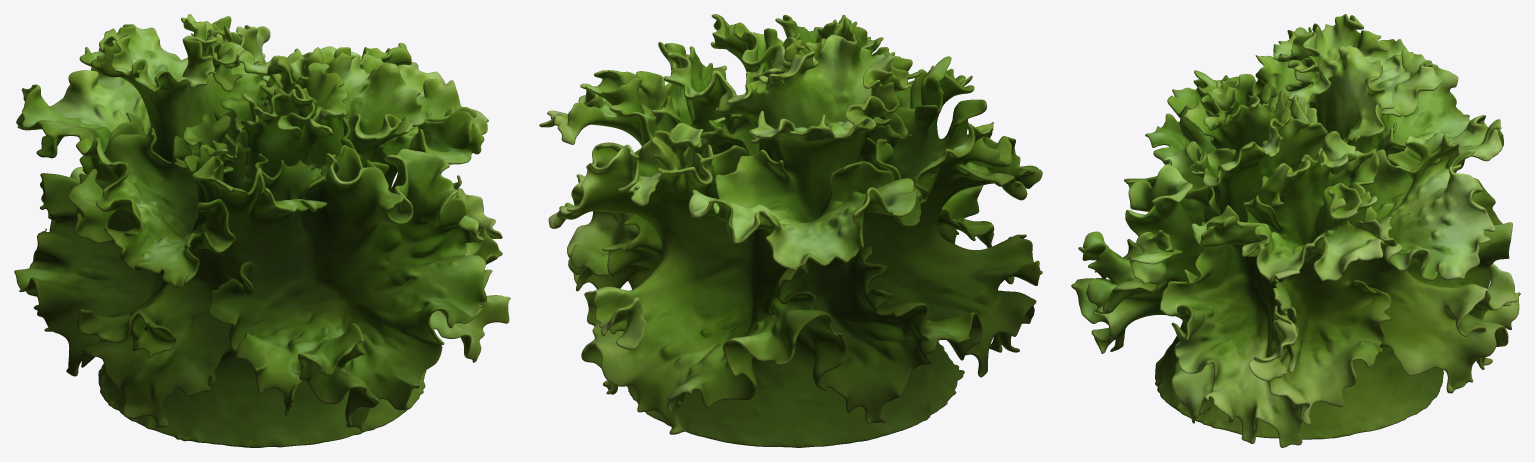
File: olmetie_heading.glb
3 renders of one model, left to right at view 1: azimuth 30°, elevation 25°; view 2: azimuth 150°, elevation 25°; view 3: azimuth 270°, elevation 25°, orthographic. The views are drawn at different scales.
Parts seen in each view (by area): view 1: tripo_node_0a78b156-047f-41ce-9973-1019519b6ebd; view 2: tripo_node_0a78b156-047f-41ce-9973-1019519b6ebd; view 3: tripo_node_0a78b156-047f-41ce-9973-1019519b6ebd.
Boxes of the visible parts, bbox=[...] form: tripo_node_0a78b156-047f-41ce-9973-1019519b6ebd: bbox=[14, 14, 510, 447]; tripo_node_0a78b156-047f-41ce-9973-1019519b6ebd: bbox=[539, 14, 1042, 447]; tripo_node_0a78b156-047f-41ce-9973-1019519b6ebd: bbox=[1071, 14, 1520, 447].
Size of the model in its own units: 0.9956 by 0.7838 by 1.
1 material, 1 textured.
